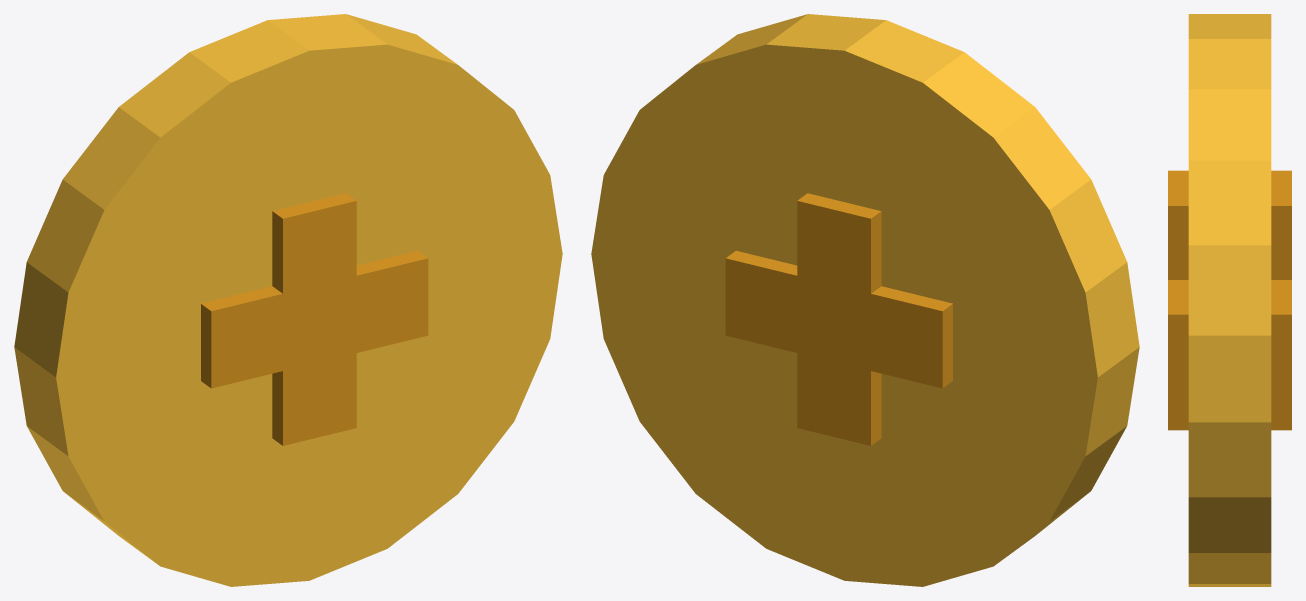
Rendered from pu_coin.glb.
3 renders of one model, left to right at view 1: azimuth 30°, elevation 25°; view 2: azimuth 150°, elevation 25°; view 3: azimuth 270°, elevation 25°, orthographic.
Parts seen in each view (by area): view 1: pu_coin; view 2: pu_coin; view 3: pu_coin.
Boxes of the visible parts, <box> form: pu_coin: <box>14,14,562,586</box>; pu_coin: <box>591,14,1139,586</box>; pu_coin: <box>1168,14,1291,586</box>.
Bounding box in the file's own units: 0.84 × 0.84 × 0.18.
